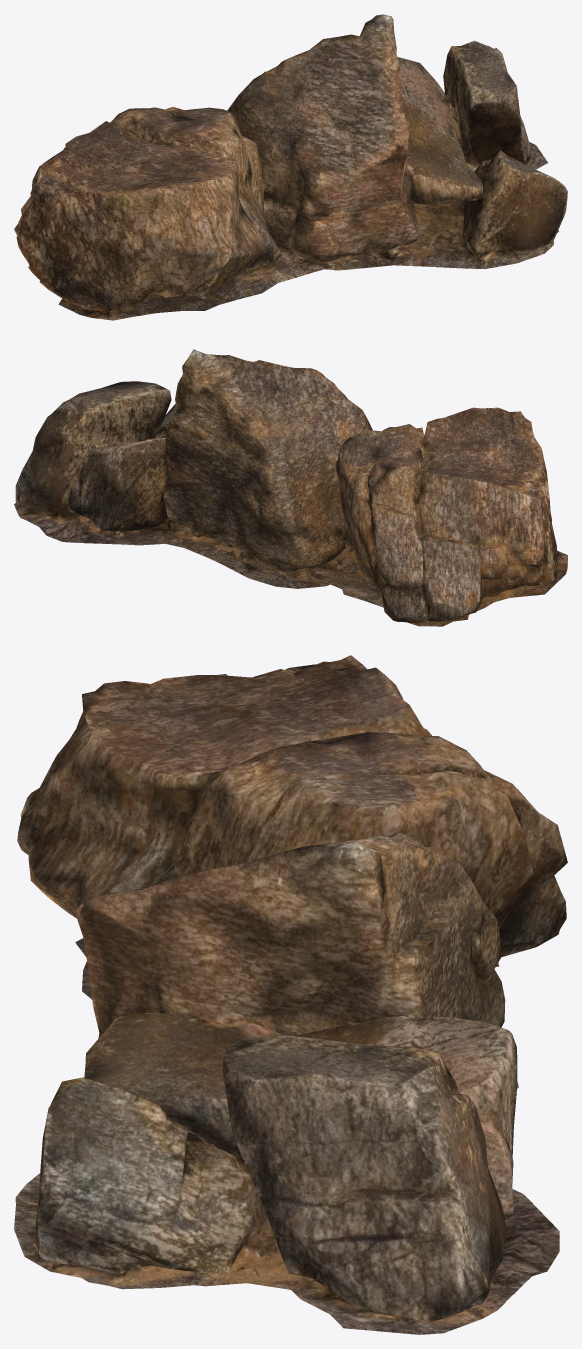
File: p_boulder2.glb
3 renders of one model, top to bottom at view 1: azimuth 30°, elevation 25°; view 2: azimuth 150°, elevation 25°; view 3: azimuth 270°, elevation 25°, orthographic. The views are drawn at different scales.
Parts seen in each view (by area): view 1: boulder_02; view 2: boulder_02; view 3: boulder_02.
Part boxes in pixels (bbox=[...]): boulder_02: bbox=[14, 14, 567, 320]; boulder_02: bbox=[14, 349, 567, 626]; boulder_02: bbox=[14, 655, 567, 1334].
Bounding box in the file's own units: 2.52 × 0.8804 × 1.23.
Materials: 1 (1 with a texture image).
